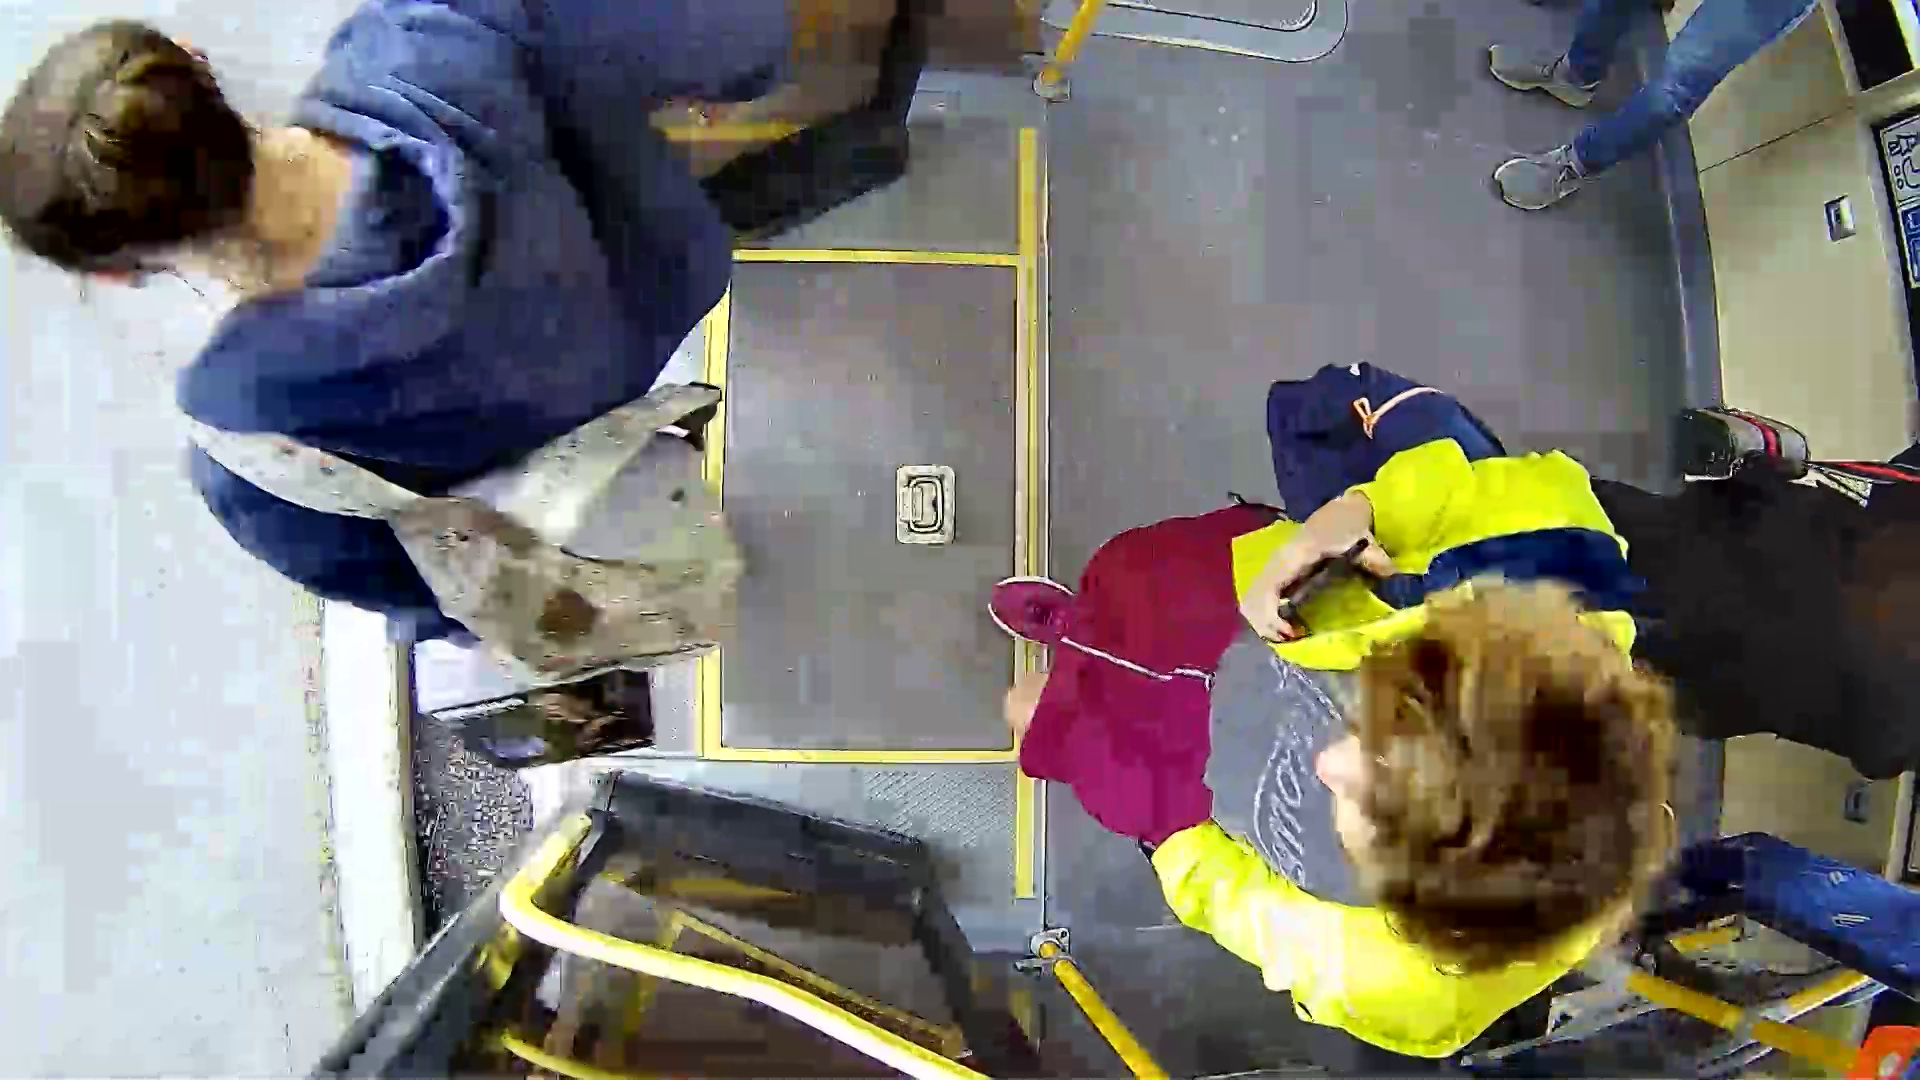person: (9, 5, 830, 664), (1018, 350, 1710, 1040)
